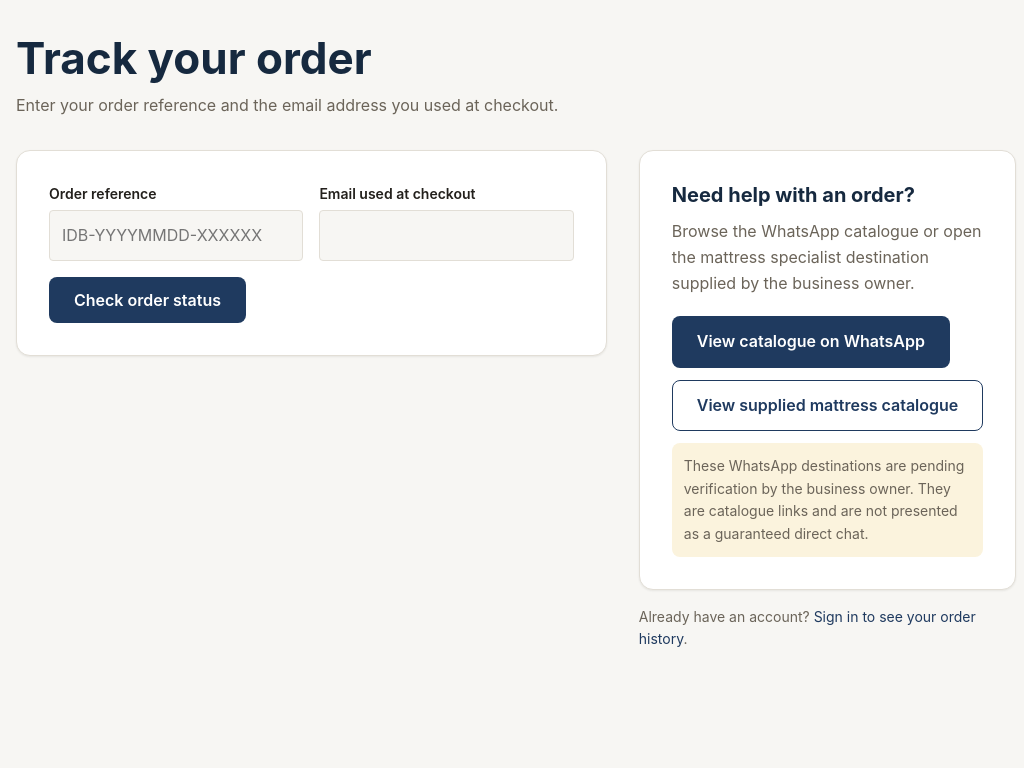
Test: TrackOrder › shows the server error for a mismatched reference and email
This screenshot has width=1024, height=768.
Type "IDB-20260101-ABCDEF" into the field labelled "Order reference" at (176, 236), box [49,210,303,261]
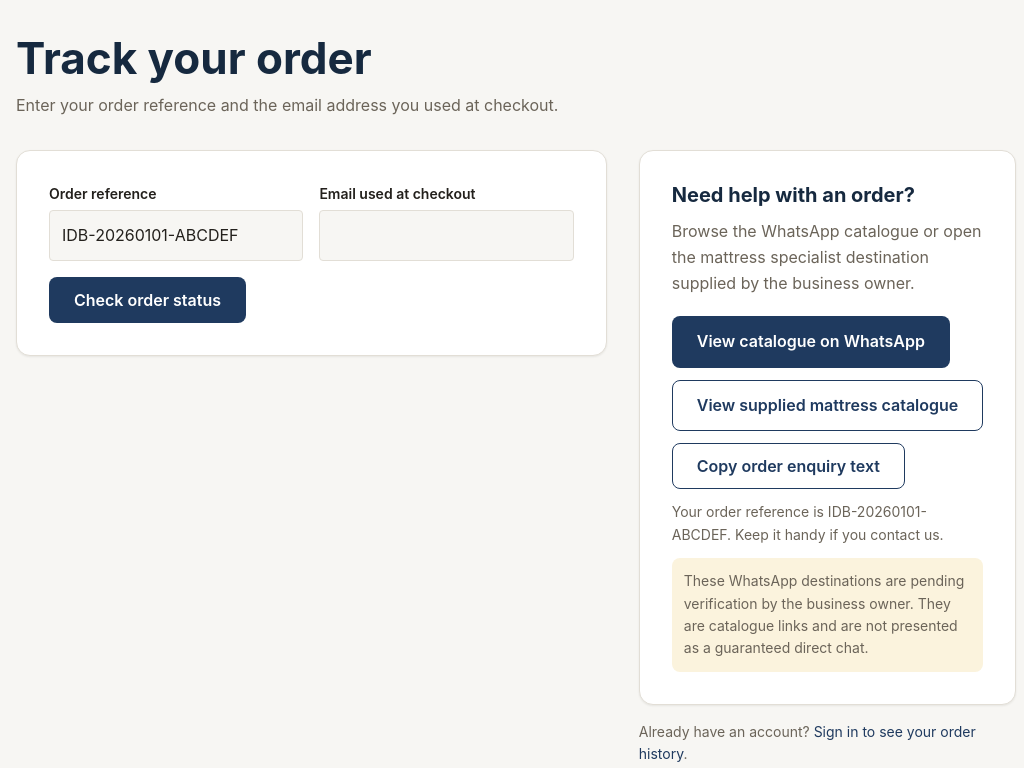
Type "someone@example.com" into the field labelled "Email used at checkout" at (447, 236), box [319,210,574,261]
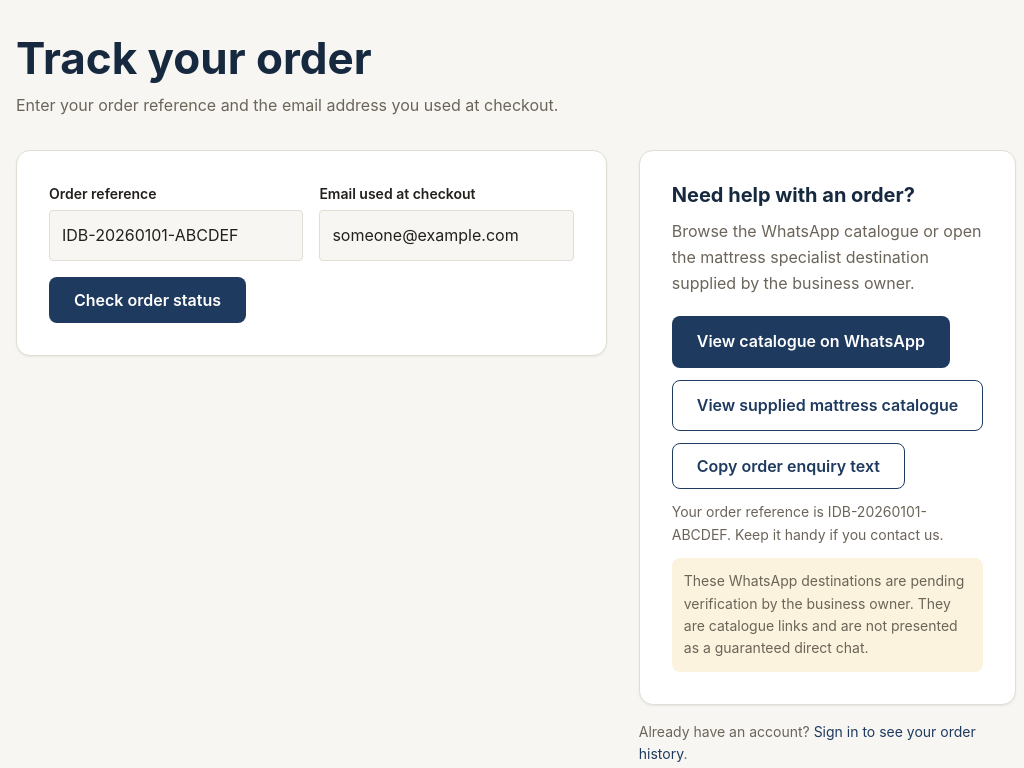
Click the button "Check order status" at (148, 300), box [49,277,246,323]
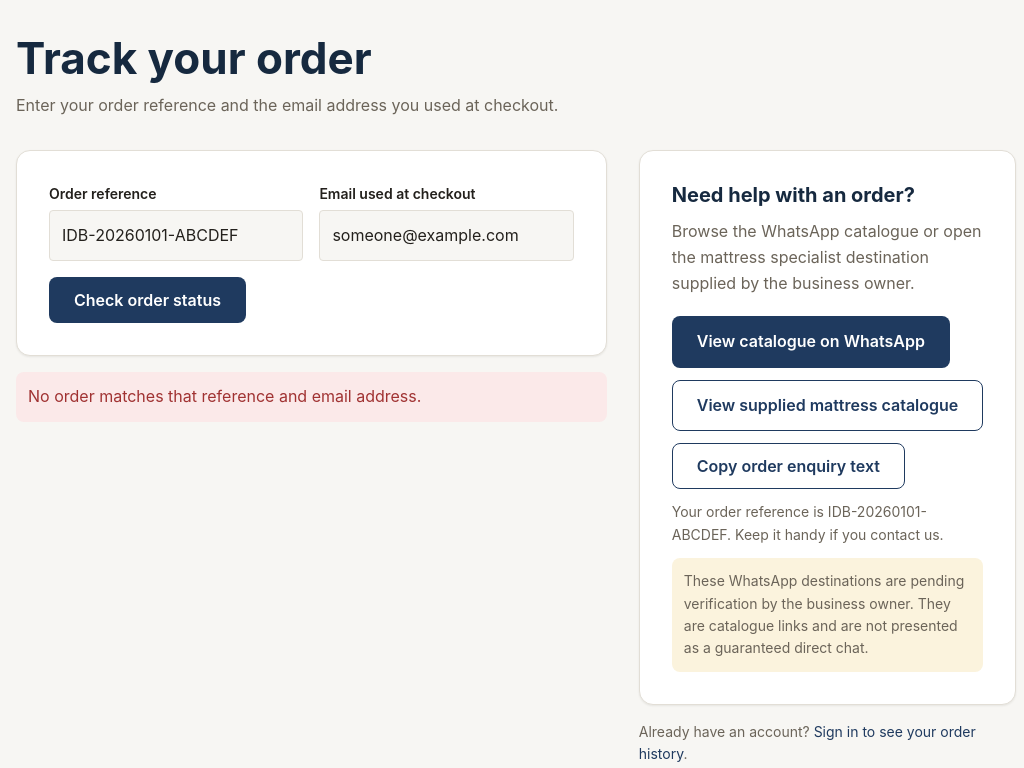
Now the text "No order matches that reference and email address." is shown, box [16,372,607,422]
